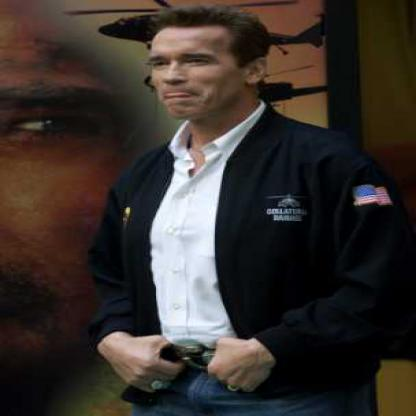face: (144, 9, 251, 123)
